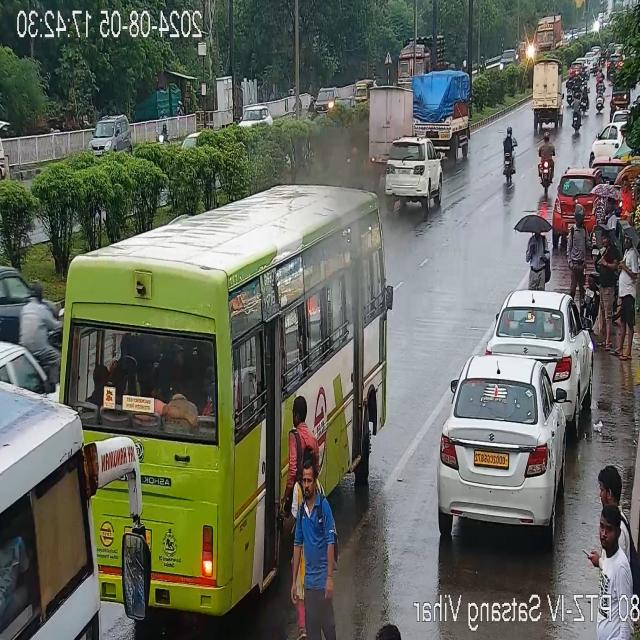2-wheelers: (20, 277, 60, 379), (496, 130, 520, 186), (536, 134, 558, 194), (592, 67, 608, 114), (570, 97, 586, 135)
auto: (351, 77, 373, 109)
bus: (12, 215, 381, 625), (0, 384, 138, 640)
car: (434, 354, 578, 534), (490, 290, 588, 400), (380, 142, 446, 210), (396, 30, 446, 87), (552, 171, 598, 230), (84, 114, 133, 160), (586, 120, 630, 165), (314, 83, 338, 117)
pedestrian: (280, 393, 338, 637), (581, 461, 640, 640), (610, 228, 640, 351), (562, 210, 592, 300), (598, 226, 620, 340), (524, 215, 554, 288), (376, 612, 408, 640), (619, 172, 636, 218)
truck: (408, 74, 471, 140), (523, 58, 567, 129), (534, 14, 562, 54)
